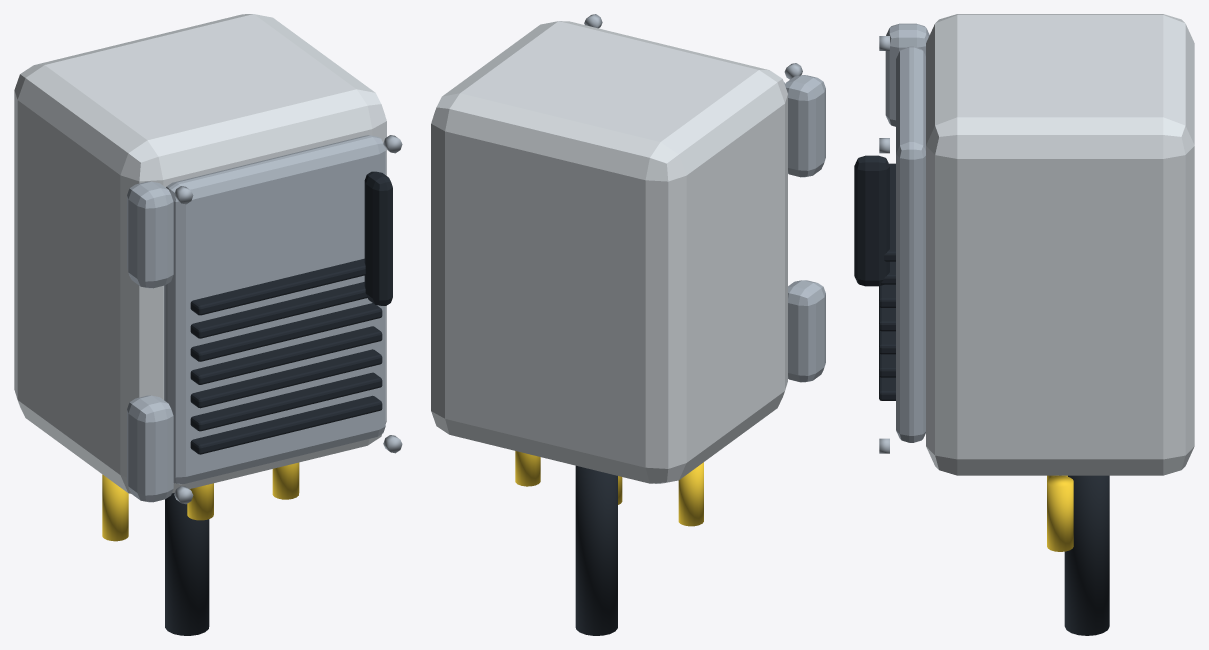
File: fbg.glb
3 renders of one model, left to right at view 1: azimuth 30°, elevation 25°; view 2: azimuth 150°, elevation 25°; view 3: azimuth 270°, elevation 25°, orthographic. The views are drawn at different scales.
Parts seen in each view (by area): view 1: fbg, Gasketed access door, Ventilation louvre, Fibre connector; view 2: fbg, Gasketed access door, Ventilation louvre, Fibre connector; view 3: fbg, Gasketed access door, Ventilation louvre, Fibre connector.
Part boxes in pixels (x1=…): fbg: x1=14, y1=14, x2=386, y2=493; Gasketed access door: x1=127, y1=135, x2=402, y2=504; Ventilation louvre: x1=165, y1=171, x2=392, y2=635; Fibre connector: x1=102, y1=462, x2=299, y2=541; fbg: x1=431, y1=21, x2=787, y2=483; Gasketed access door: x1=584, y1=14, x2=825, y2=382; Ventilation louvre: x1=575, y1=465, x2=617, y2=635; Fibre connector: x1=515, y1=451, x2=703, y2=526; fbg: x1=926, y1=14, x2=1194, y2=475; Gasketed access door: x1=879, y1=23, x2=929, y2=453; Ventilation louvre: x1=854, y1=155, x2=1109, y2=635; Fibre connector: x1=1047, y1=475, x2=1073, y2=551.
Bounding box in the file's own units: 0.3557 × 0.69 × 0.38.
